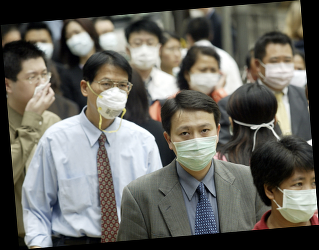with_mask: (170, 120, 220, 173), (274, 174, 316, 223), (87, 76, 131, 118), (259, 52, 295, 90), (129, 35, 161, 72), (187, 63, 221, 96), (64, 25, 94, 58), (26, 35, 56, 62), (97, 25, 118, 52), (290, 63, 306, 89)
without_mask: (11, 66, 52, 106), (161, 43, 182, 68)
